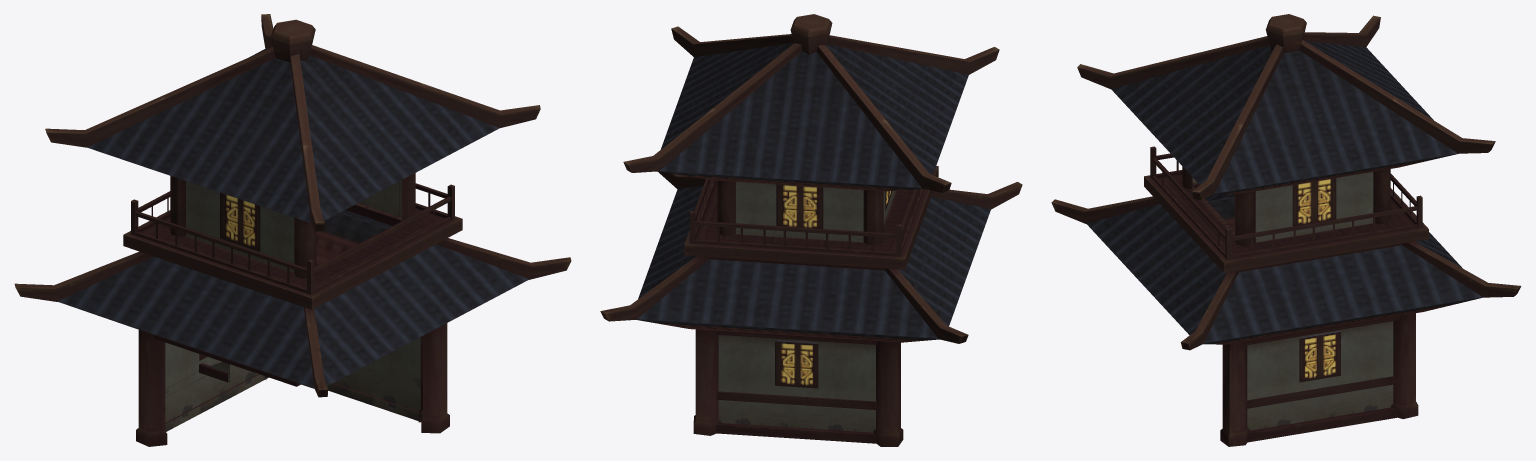
File: Area_03_2.fbx
3 views of the same model, side by side, from view 1: azimuth 30°, elevation 25°; view 2: azimuth 150°, elevation 25°; view 3: azimuth 270°, elevation 25° (orthographic). The views are drawn at different scales.
Visible parts, largest first — view 1: Area_03_2; view 2: Area_03_2; view 3: Area_03_2.
Part boxes in pixels (x1=…): Area_03_2: x1=14, y1=14, x2=571, y2=446; Area_03_2: x1=600, y1=14, x2=1022, y2=446; Area_03_2: x1=1051, y1=14, x2=1521, y2=446.
Bounding box in the file's own units: 1779 × 1541 × 1777.
